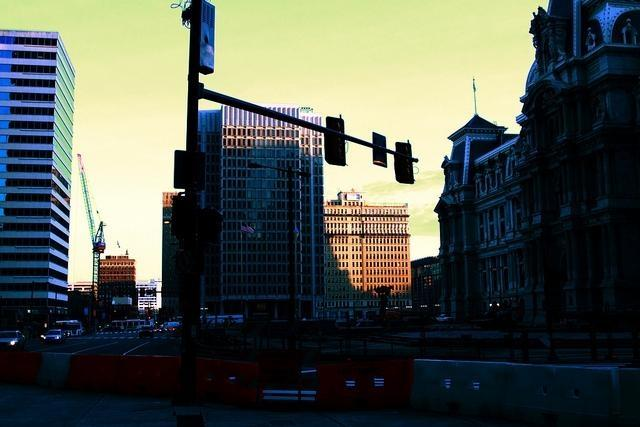bus: (112, 319, 154, 331), (56, 320, 82, 336), (200, 315, 242, 324)
car: (0, 330, 27, 350), (43, 330, 66, 342), (138, 325, 154, 339)
